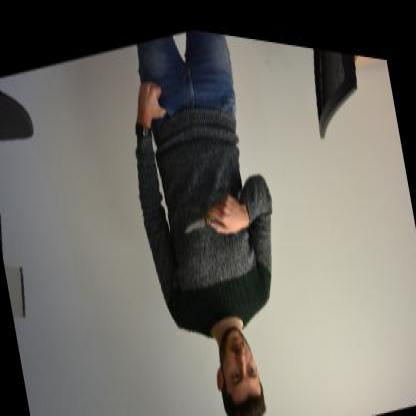knife: (178, 185, 226, 242)
